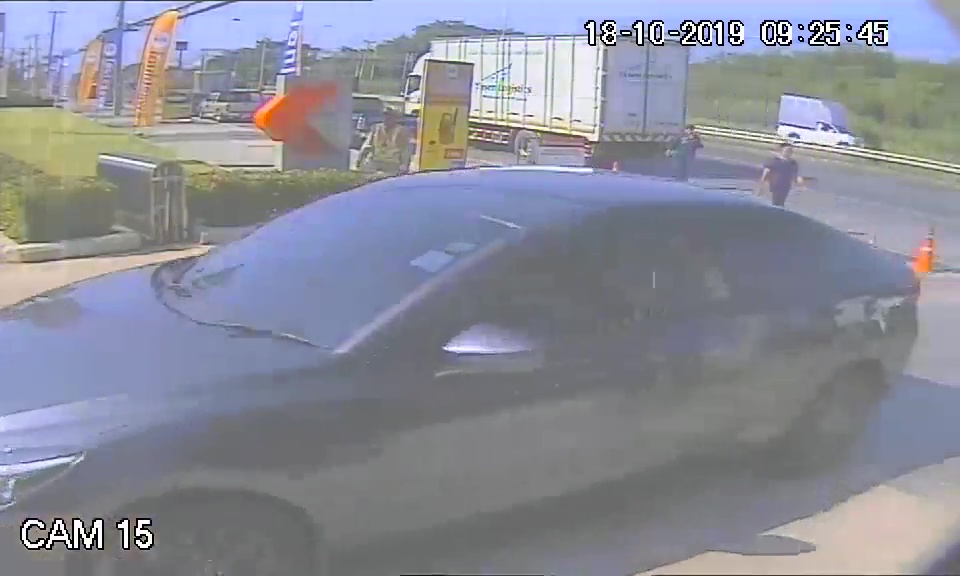sedan: (17, 167, 915, 545)
